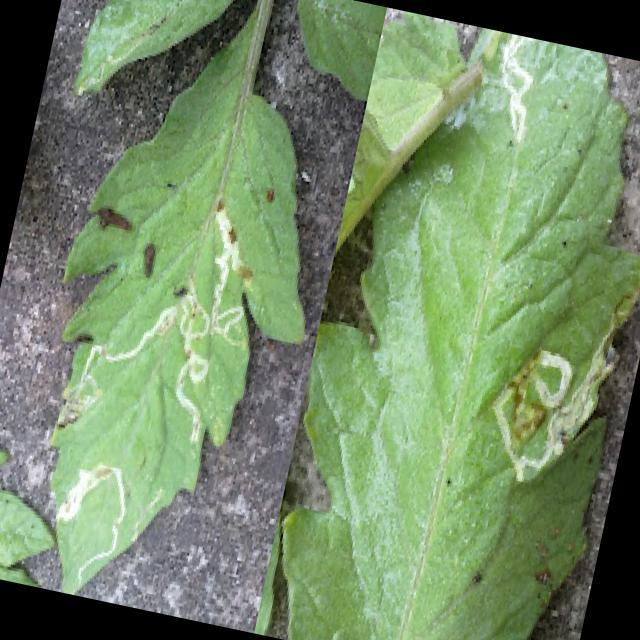Tomato target spot leaf: (250, 6, 640, 640), (0, 53, 349, 629)
